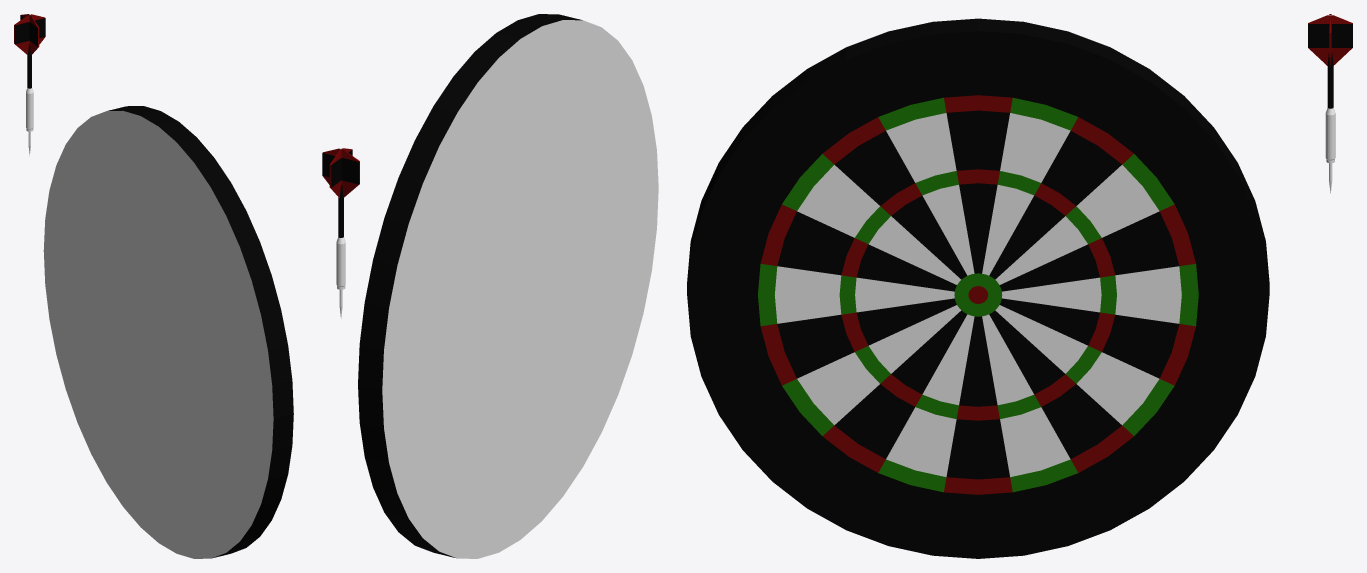
The model's file is Darts.fbx.
3 renders of one model, left to right at view 1: azimuth 30°, elevation 25°; view 2: azimuth 150°, elevation 25°; view 3: azimuth 270°, elevation 25°, orthographic. The views are drawn at different scales.
Visible parts, largest first — view 1: Cylinder, Cone; view 2: Cylinder, Cone; view 3: Cylinder, Cone.
Boxes of the visible parts, x1,y1,x2,y2 form: Cylinder: [43, 106, 293, 558]; Cone: [14, 14, 45, 155]; Cylinder: [358, 14, 658, 558]; Cone: [322, 148, 359, 318]; Cylinder: [687, 18, 1269, 558]; Cone: [1308, 14, 1352, 193].
Size of the model in its own units: 0.3379 by 4.47 by 5.01.
